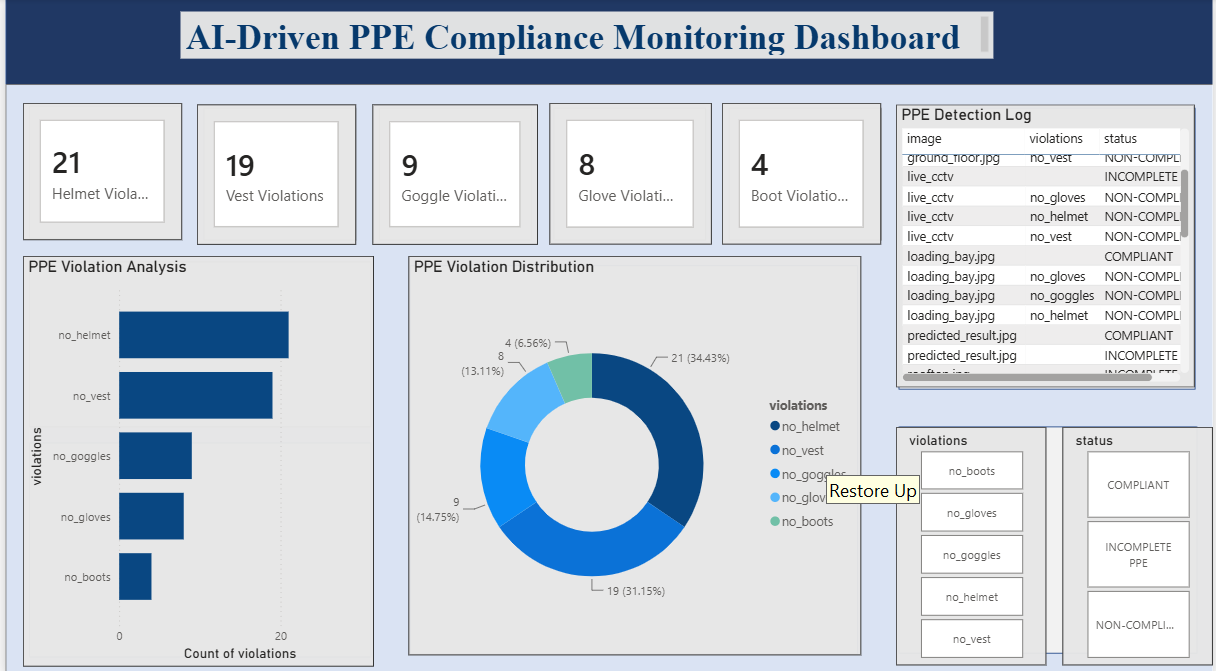

The page's visual inventory and layout, read from the dashboard file:
{"tool":"powerbi","page":{"name":"Page 1","canvas":[1280,720],"ordinal":0},"visuals":[{"type":"textbox","box":[186.7,15,861.7,50],"z":0},{"type":"clusteredBarChart","title":"PPE Violation Analysis","fields":{"Category":["violation_log.violations"],"Y":["CountNonNull(violation_log.violations)"]},"box":[18.3,273.3,371.7,435],"z":1000},{"type":"cardVisual","fields":{"Data":["violation_log.Helmet Violations"]},"box":[18.3,111.7,168.3,145],"z":2000},{"type":"cardVisual","fields":{"Data":["violation_log.Vest Violations"]},"box":[203.3,113.3,168.3,148.3],"z":3000},{"type":"cardVisual","fields":{"Data":["violation_log.Goggle Violations"]},"box":[390,113.3,175,148.3],"z":4000},{"type":"cardVisual","fields":{"Data":["violation_log.Glove Violations"]},"box":[576.7,111.7,171.7,150],"z":5000},{"type":"cardVisual","fields":{"Data":["violation_log.Boot Violations"]},"box":[760,111.7,168.3,150],"z":6000},{"type":"donutChart","title":"PPE Violation Distribution","fields":{"Category":["violation_log.violations"],"Y":["CountNonNull(violation_log.violations)"]},"box":[428.3,273.3,480,423.3],"z":7000},{"type":"tableEx","title":"PPE Detection Log","fields":{"Values":["violation_log.image","violation_log.violations","violation_log.status"]},"box":[945,113.3,316.7,300],"z":8000},{"type":"slicer","fields":{"Values":["violation_log.violations"]},"box":[945,455,158.3,241.7],"z":9000},{"type":"slicer","fields":{"Values":["violation_log.status"]},"box":[1121.7,455,158.3,241.7],"z":10000}]}

Visuals, with their boxes in screenshot pixels (x1, y1, x2, y2), scaled from the page's 1280x720 canvas onto the 1216x671 screenshot:
textbox: [177,14,996,61]
"PPE Violation Analysis" clusteredBarChart: [17,255,370,660]
cardVisual - violation_log.Helmet Violations: [17,104,177,239]
cardVisual - violation_log.Vest Violations: [193,106,353,244]
cardVisual - violation_log.Goggle Violations: [370,106,537,244]
cardVisual - violation_log.Glove Violations: [548,104,711,244]
cardVisual - violation_log.Boot Violations: [722,104,882,244]
"PPE Violation Distribution" donutChart: [407,255,863,649]
"PPE Detection Log" tableEx: [898,106,1199,385]
slicer - violation_log.violations: [898,424,1048,649]
slicer - violation_log.status: [1066,424,1215,649]
